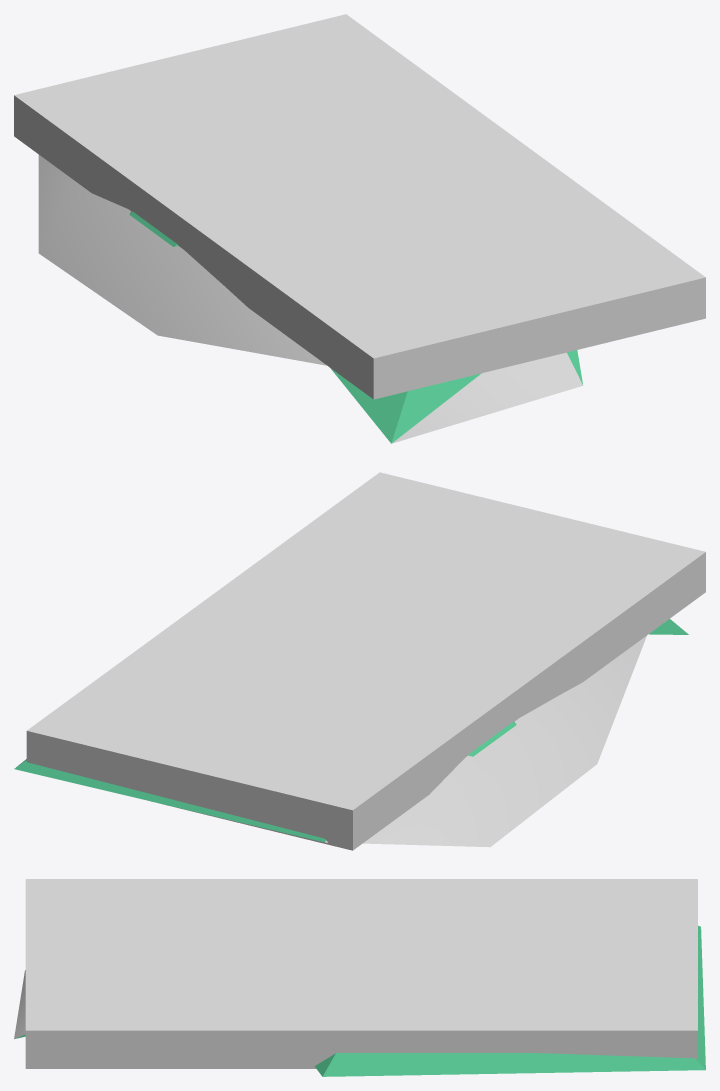
The model's file is parkinglot_01_c.dae.
3 renders of one model, top to bottom at view 1: azimuth 30°, elevation 25°; view 2: azimuth 150°, elevation 25°; view 3: azimuth 270°, elevation 25°, orthographic. The views are drawn at different scales.
Parts seen in each view (by area): view 1: Untitled, ind_bld_a15, Colmesh-1; view 2: Untitled, ind_bld_a15, Colmesh-1; view 3: Untitled, Colmesh-1, ind_bld_a15.
Boxes of the visible parts, x1,y1,x2,y2 form: Untitled: (14,14,705,399); ind_bld_a15: (38,155,582,443); Colmesh-1: (129,211,583,443); Untitled: (26,472,705,850); ind_bld_a15: (325,635,646,847); Colmesh-1: (14,619,688,842); Untitled: (25,879,697,1068); Colmesh-1: (15,925,705,1076); ind_bld_a15: (14,970,25,1038).
Size of the model in its own units: 37.77 by 58.58 by 7.79.
